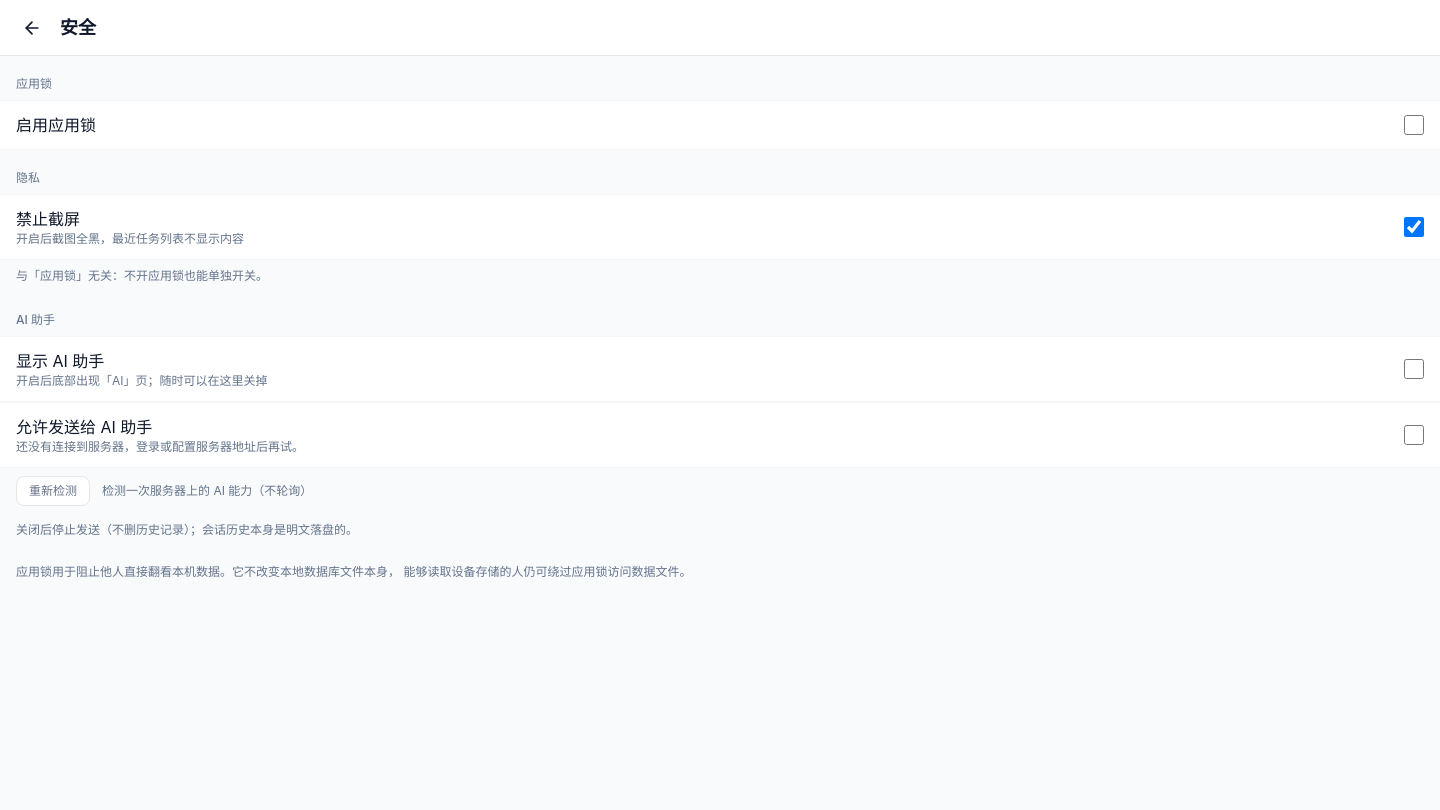
Test: 隐私区 AI 区块：恒可达（G2/C2） › ④ 状态行**绝不插值出 `null`**：host 未知时给一句实话，host 可知时逐字写出域名
Expected: the text with test id "ai-host-state" shows "服务器", [16, 439, 304, 454]
Click the button with test id "ai-recheck" at (53,491), box [16, 476, 90, 506]
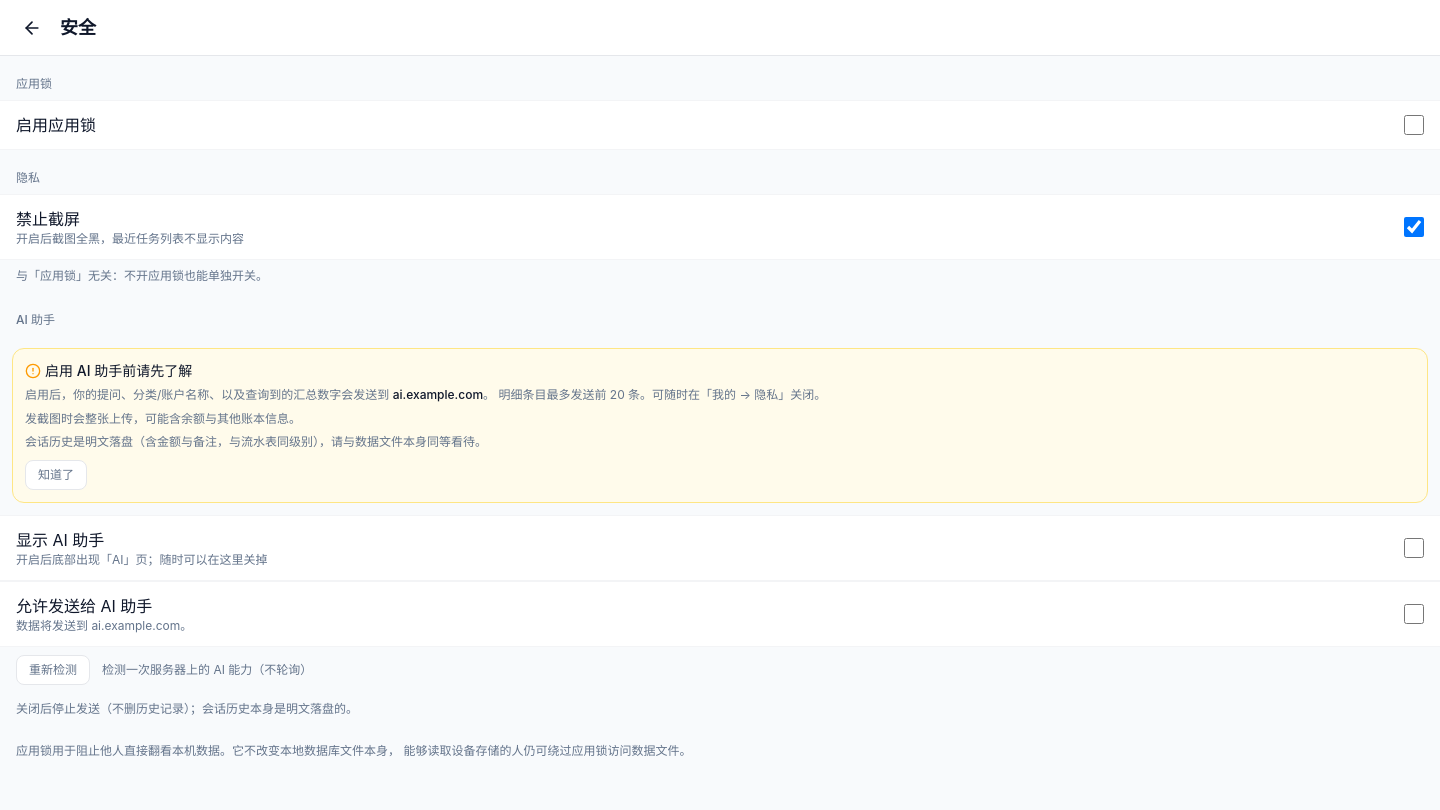
Now the text with test id "ai-host-state" shows "ai.example.com", box [16, 618, 192, 632]
